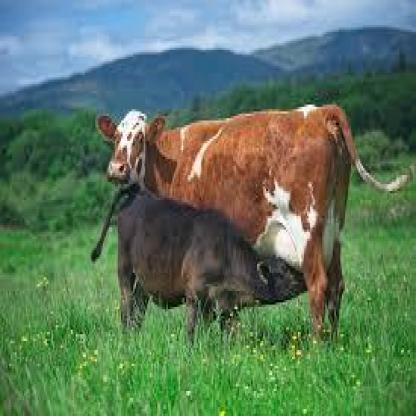cow: (96, 101, 415, 347), (91, 181, 310, 354)
